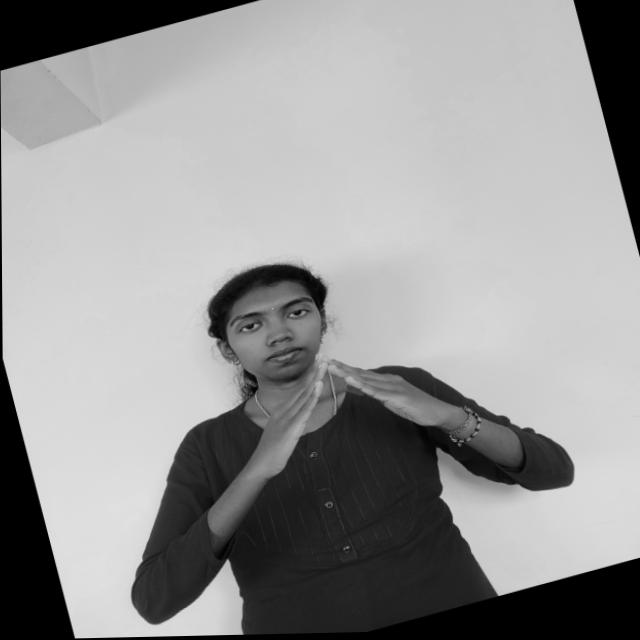Home: (209, 320, 465, 491)
